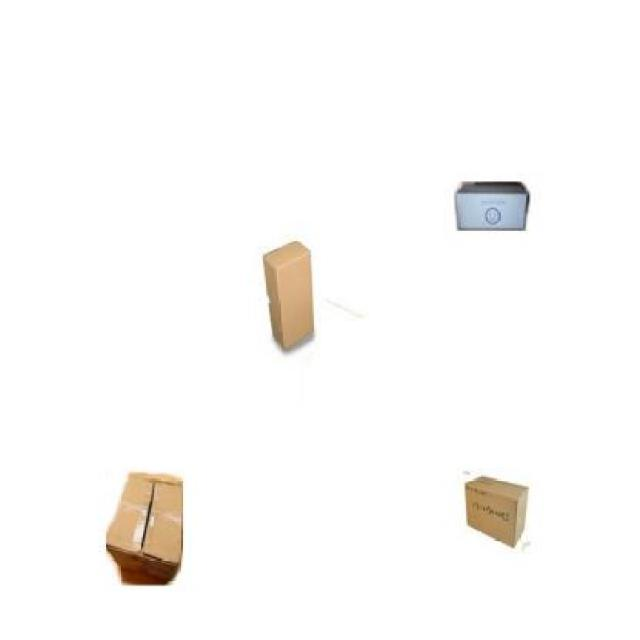cardboxes: (108, 474, 186, 586), (262, 240, 313, 354), (466, 475, 528, 550), (455, 184, 527, 230)
